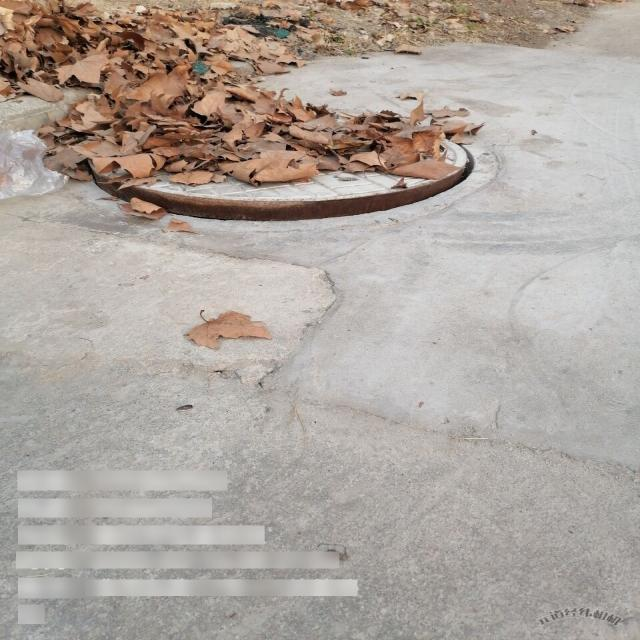Lose: (86, 118, 499, 228)
